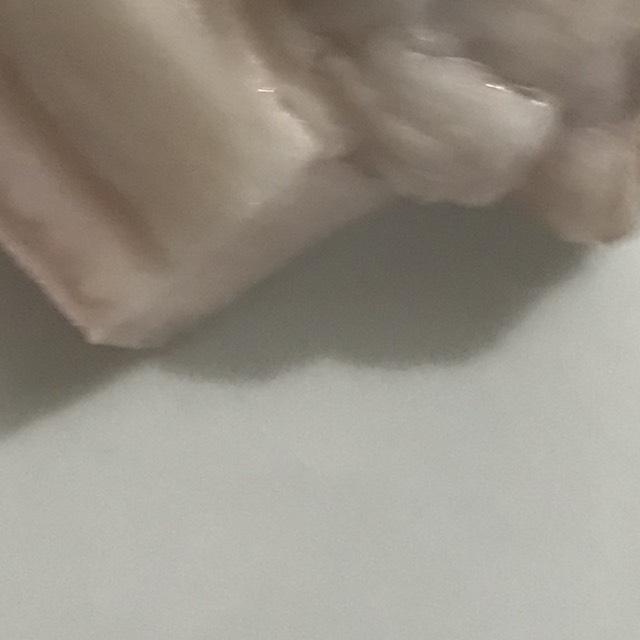pork: (0, 0, 640, 275)
